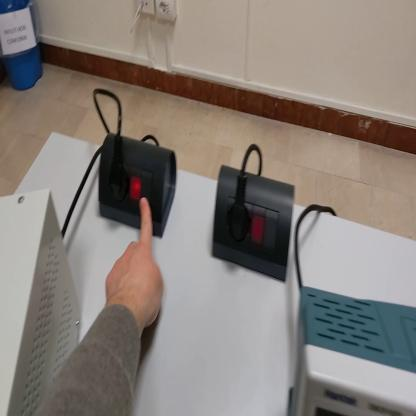hand: (105, 196, 164, 328)
oscilloscope: (288, 284, 416, 416)
power supply: (2, 190, 82, 414)
socket: (211, 165, 297, 286), (97, 135, 176, 242)
